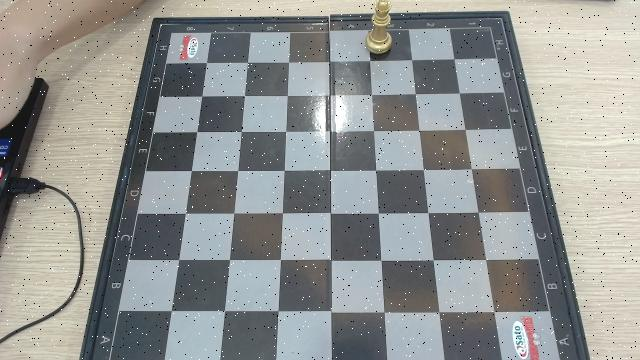black_queen: (366, 0, 393, 53)
